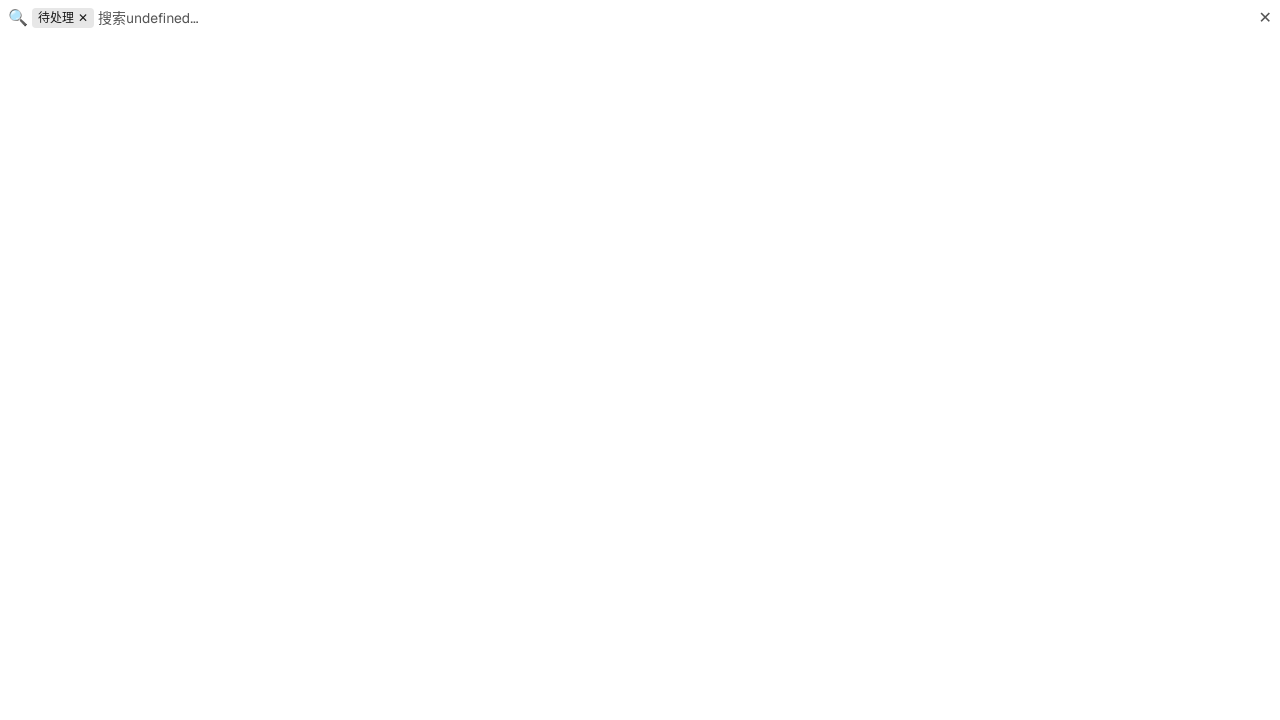
Scenario: SearchBar › 已选预设在搜索下拉中显示勾选标记
Focus the field. click: (676, 18)
box: left=98, top=8, right=1254, bottom=28
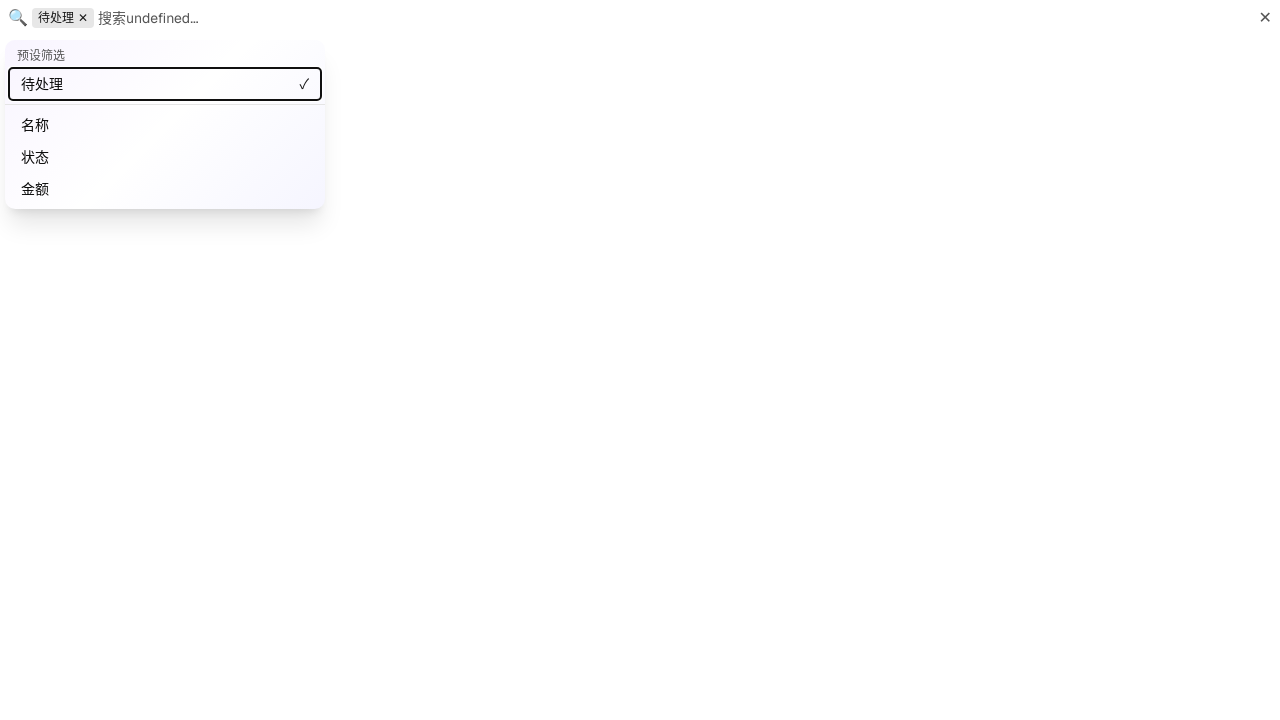
Expected: the picture named "待处理已选中" reads "✓", left=299, top=75, right=309, bottom=93
